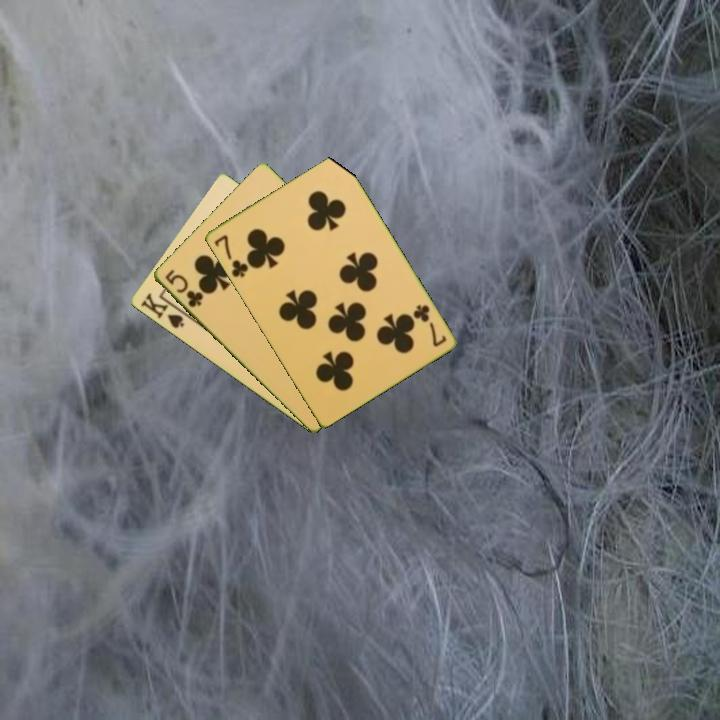5c: (161, 266, 206, 310)
7c: (210, 231, 251, 281), (409, 301, 449, 350)
Ks: (136, 289, 192, 331)
